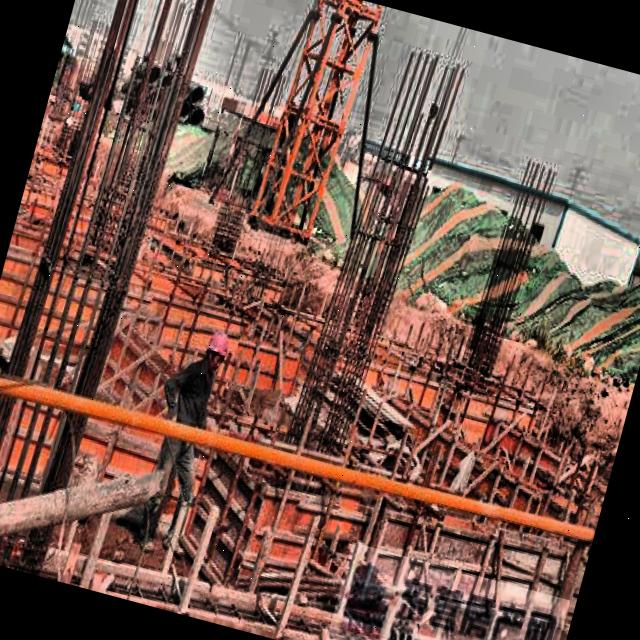helmet: (195, 323, 235, 377)
